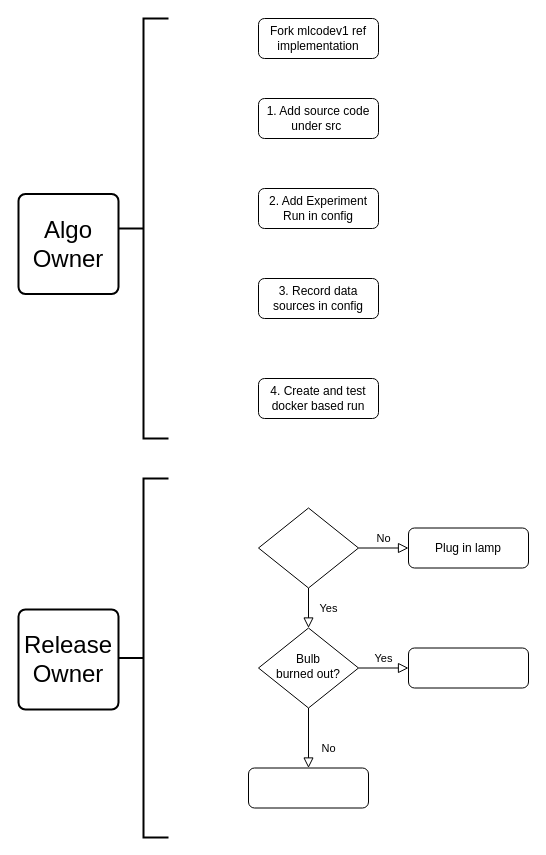
Some shapes in this 546 by 855 pixel diagram are drawn without their labels. The centre of each missing label's shape, as x and y in pixels:
"Lamp plugged in?" goes at (x=308, y=547).
"Repair Lamp" goes at (x=308, y=787).
"Replace Bulb" goes at (x=468, y=667).
